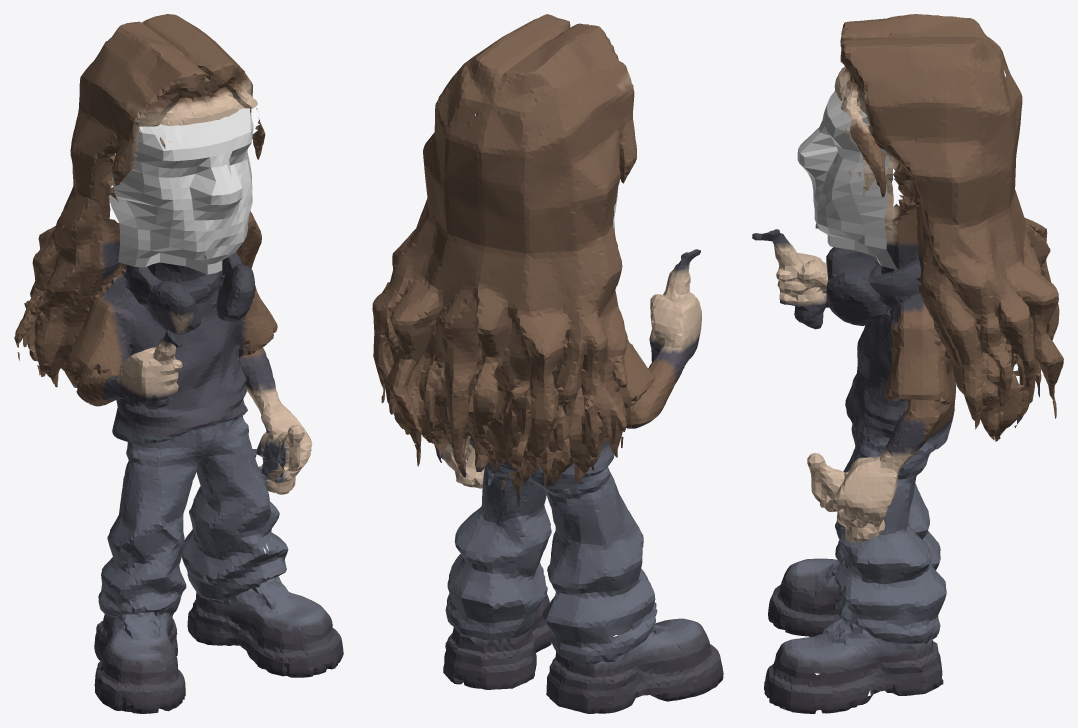
The model's file is edik.glb.
3 views of the same model, side by side, from view 1: azimuth 30°, elevation 25°; view 2: azimuth 150°, elevation 25°; view 3: azimuth 270°, elevation 25° (orthographic). The views are drawn at different scales.
Visible parts, largest first — view 1: torso, legR, legL, head, face, armR; view 2: torso, head, legL, legR, armR; view 3: head, torso, armR, legR, face, legL.
Boxes of the visible parts, x1,y1,x2,y2 form: torso: (14, 203, 304, 456); legR: (181, 383, 343, 677); legL: (51, 374, 208, 713); head: (45, 14, 265, 269); face: (108, 108, 253, 274); armR: (231, 222, 312, 547); torso: (372, 224, 701, 506); head: (391, 14, 636, 335); legL: (488, 441, 723, 713); legR: (417, 435, 556, 689); armR: (372, 251, 494, 570); head: (817, 14, 1045, 301); torso: (752, 207, 1063, 479); armR: (807, 260, 1063, 583); legR: (764, 390, 1056, 713); face: (797, 90, 897, 269); legL: (768, 373, 1041, 638).
Size of the model in its own units: 1.13 by 2.8 by 1.25.
